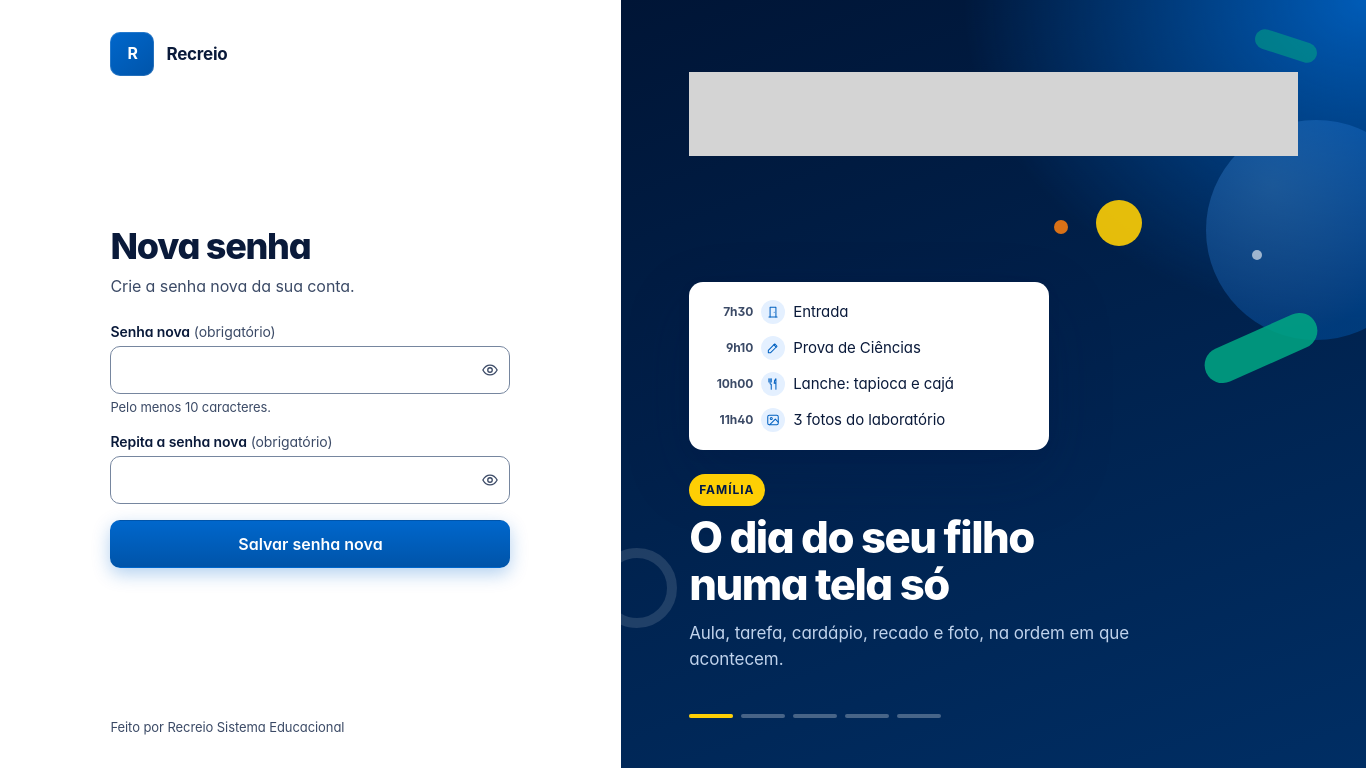
Test: nova senha › envia o token do link e a senha nova
Step 1. Type "senha-nova-2026" into the password field labelled "Senha nova (obrigatório)" → (296, 370), box [124,347,468,393]
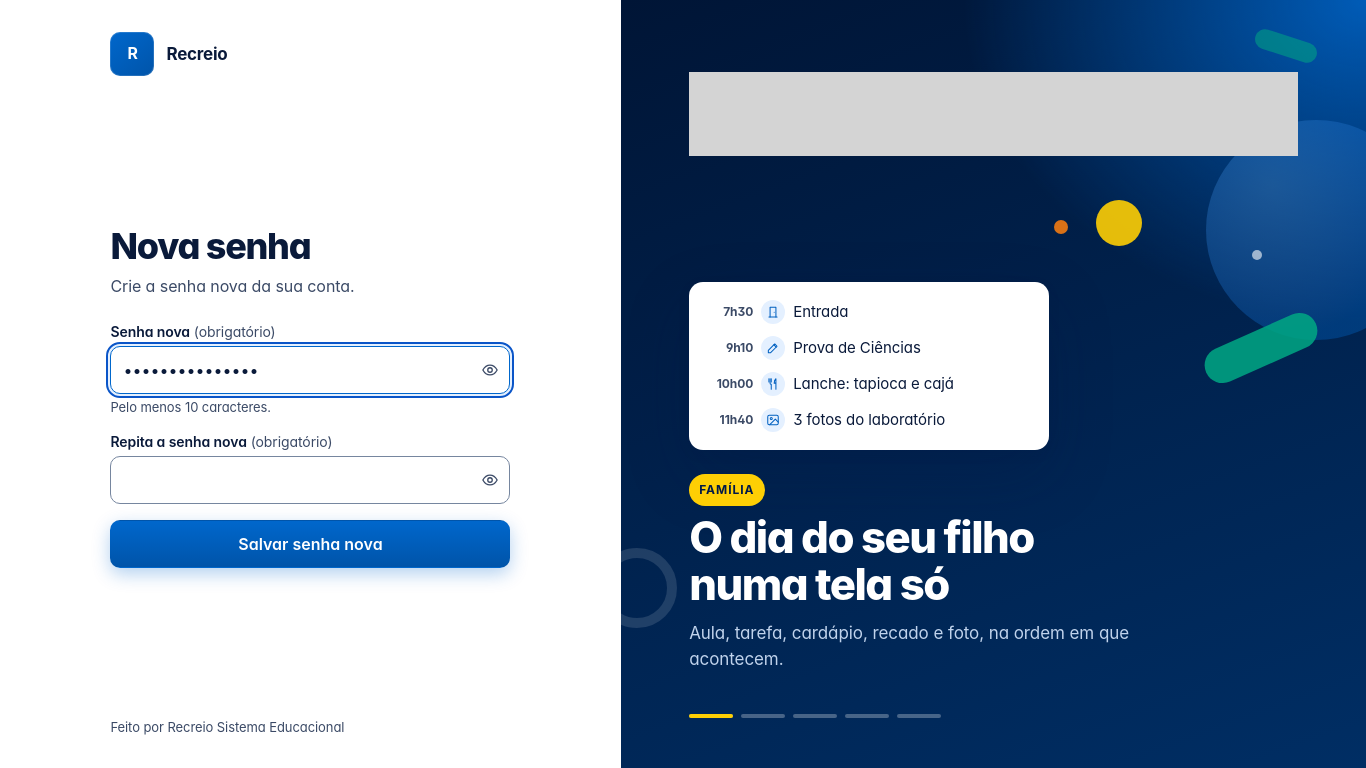
Step 2. Type "senha-nova-2026" into the password field labelled "Repita a senha nova (obrigatório)" → (296, 480), box [124,457,468,503]
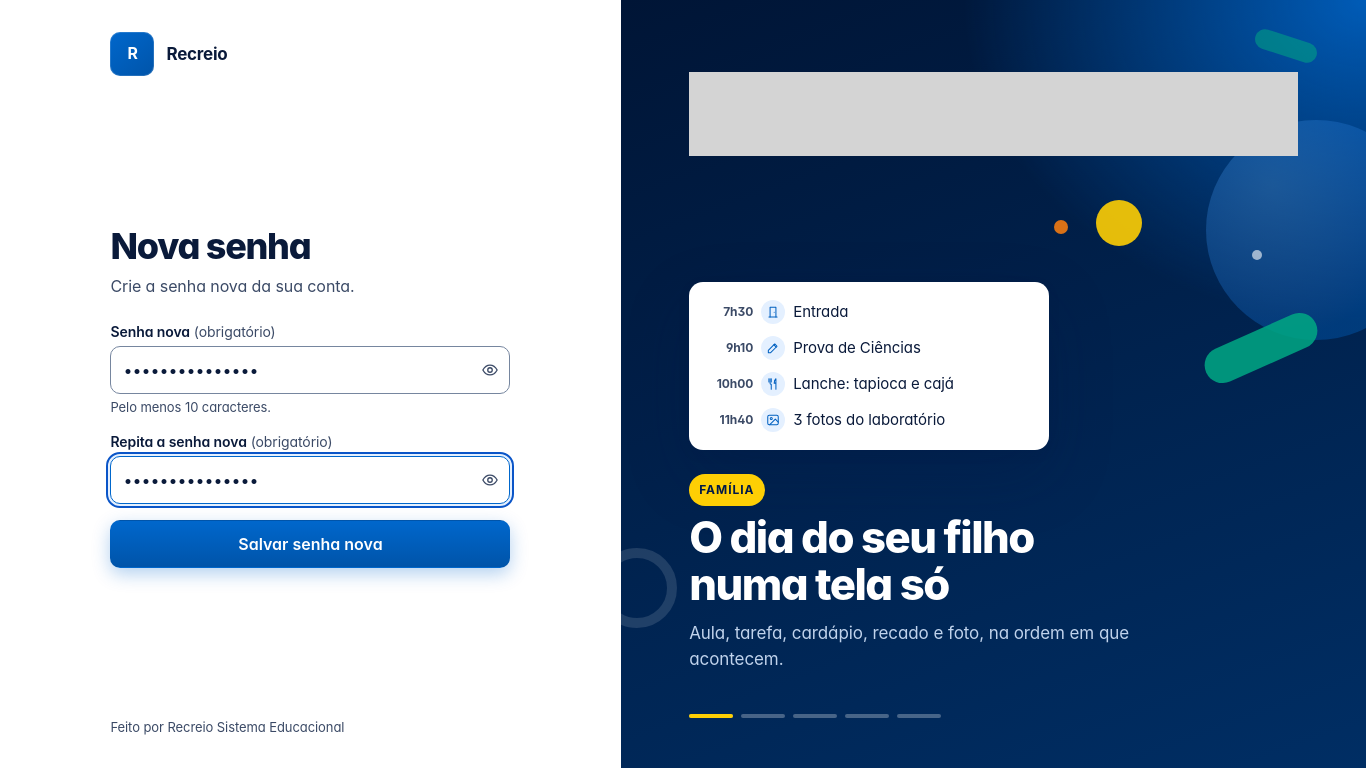
Step 3. Click the button "Salvar senha nova" → (310, 544), box [110,520,510,568]
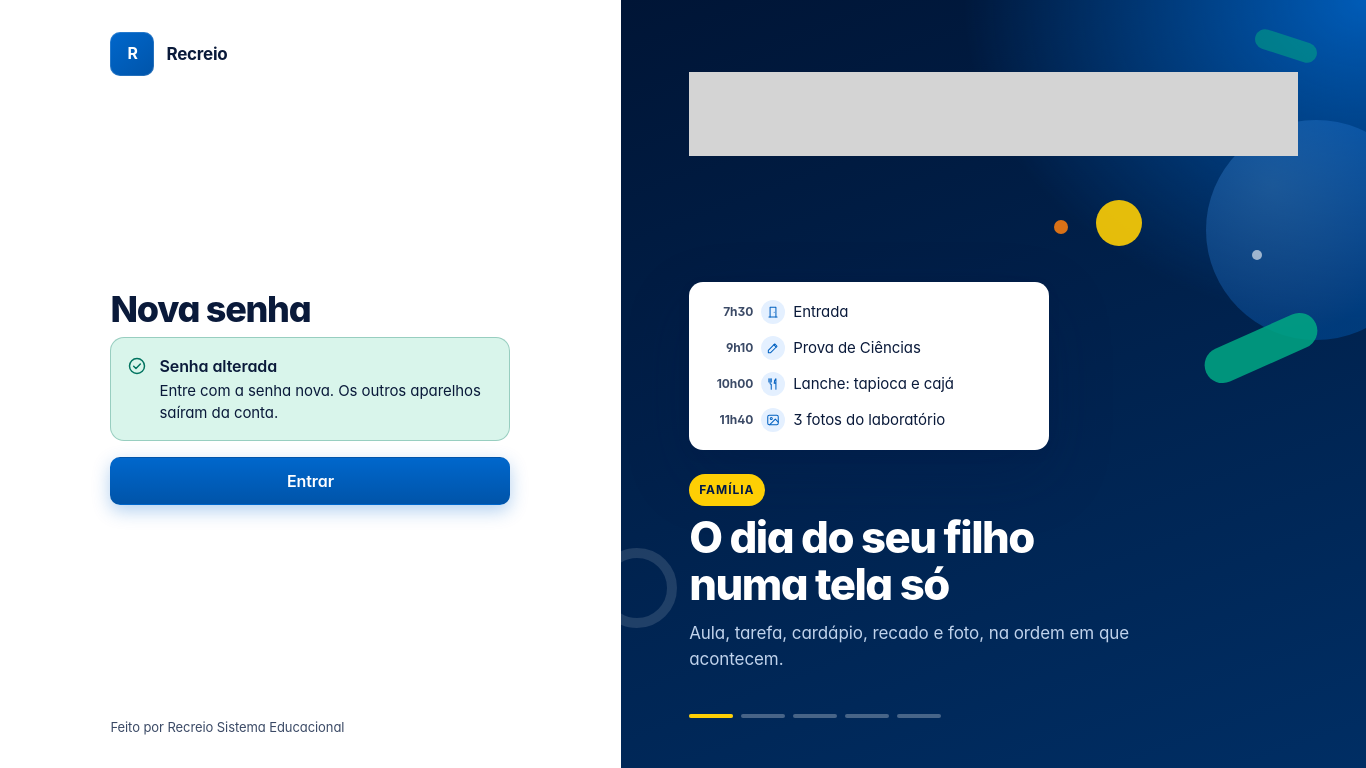
Now the text "Senha alterada" is shown, box [160,356,277,376]
